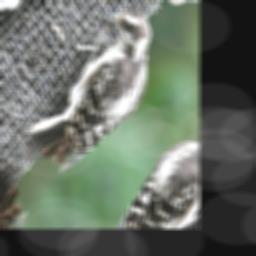Woodpecker: (10, 0, 175, 196)
